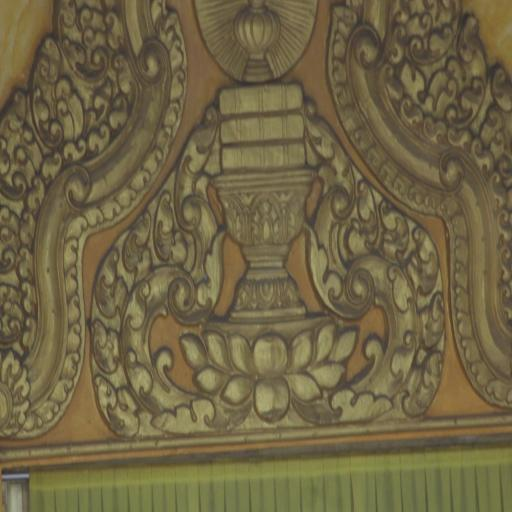lua: (428, 16, 491, 118), (31, 39, 83, 143), (304, 108, 352, 218), (176, 116, 220, 230), (2, 88, 42, 196), (60, 0, 123, 62), (400, 0, 458, 58), (394, 353, 449, 410), (94, 384, 132, 453), (407, 224, 438, 301), (350, 180, 384, 250), (89, 320, 123, 378), (123, 210, 150, 281), (98, 253, 126, 320), (42, 134, 79, 183), (397, 57, 430, 110), (380, 202, 408, 264), (84, 101, 110, 155), (390, 89, 421, 130), (154, 192, 170, 263), (425, 294, 445, 346), (13, 203, 35, 249), (471, 130, 493, 174), (445, 113, 470, 151), (104, 96, 130, 132), (381, 64, 403, 101), (25, 170, 45, 210), (490, 168, 506, 216), (421, 112, 443, 146), (496, 238, 512, 282), (114, 58, 134, 93), (18, 279, 35, 318), (492, 120, 508, 159), (17, 246, 35, 280), (390, 18, 404, 60), (496, 203, 510, 243), (23, 312, 36, 351), (502, 282, 512, 322)
